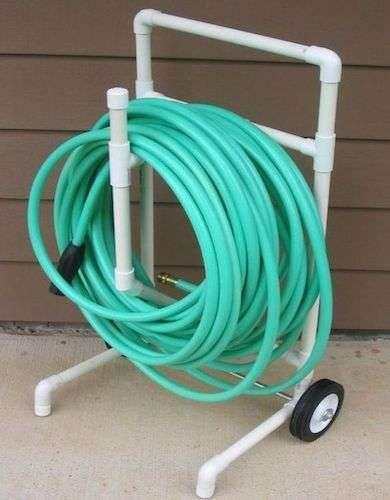PVC: (25, 91, 334, 406), (119, 0, 383, 83), (194, 409, 299, 500), (105, 84, 137, 294), (34, 347, 123, 417)
